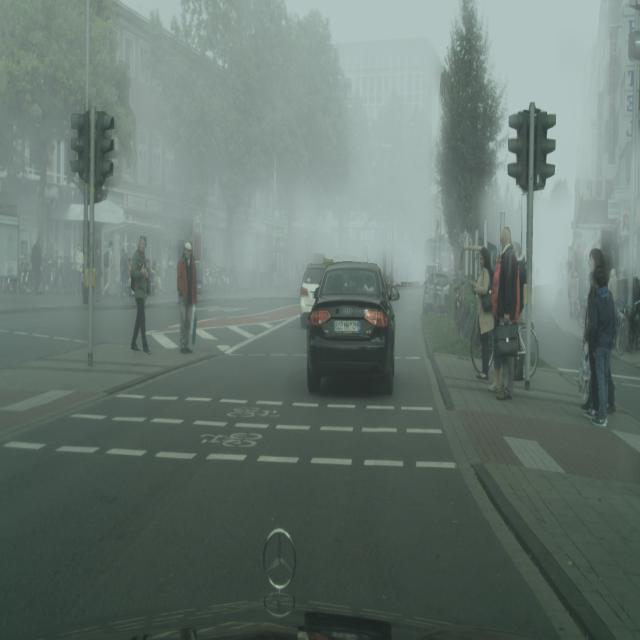bus: (307, 262, 397, 395), (300, 262, 329, 328), (423, 268, 451, 314)
car: (469, 308, 538, 388), (616, 299, 639, 354)
person: (587, 251, 616, 426), (489, 228, 518, 399), (470, 248, 493, 380), (129, 232, 151, 355), (177, 240, 197, 354), (31, 234, 43, 294), (74, 241, 84, 298), (104, 240, 113, 296), (568, 270, 578, 319), (93, 246, 102, 300), (120, 248, 129, 301)
